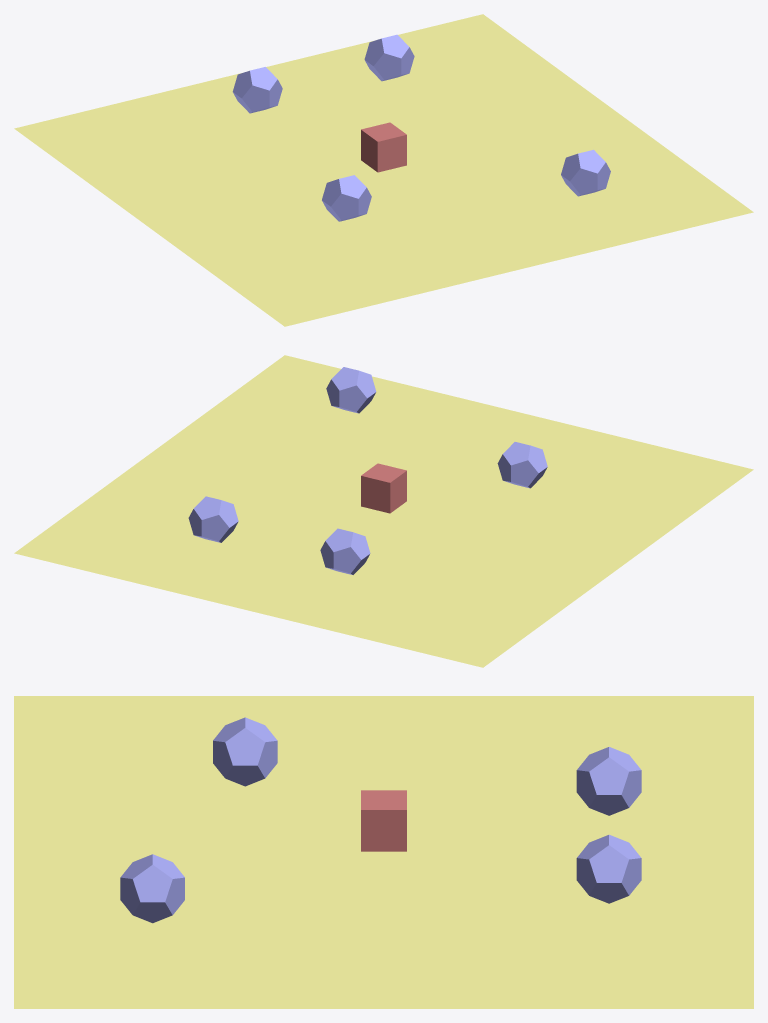
The picture shows the model from 3 angles, top to bottom: view 1: azimuth 30°, elevation 25°; view 2: azimuth 150°, elevation 25°; view 3: azimuth 270°, elevation 25°; orthographic projection. The views are drawn at different scales.
Parts seen in each view (by area): view 1: Ground, Box, PillDodecahedron_0, PillDodecahedron_2, PillDodecahedron_1, PillDodecahedron_3; view 2: Ground, Box, PillDodecahedron_1, PillDodecahedron_2, PillDodecahedron_0, PillDodecahedron_3; view 3: Ground, PillDodecahedron_3, PillDodecahedron_2, PillDodecahedron_1, PillDodecahedron_0, Box.
Boxes of the visible parts, x1=… form: Ground: x1=14, y1=14, x2=753, y2=326; Box: x1=361, y1=122, x2=406, y2=172; PillDodecahedron_0: x1=561, y1=149, x2=610, y2=196; PillDodecahedron_2: x1=364, y1=34, x2=414, y2=81; PillDodecahedron_1: x1=322, y1=175, x2=371, y2=221; PillDodecahedron_3: x1=232, y1=67, x2=282, y2=113; Ground: x1=14, y1=355, x2=753, y2=667; Box: x1=361, y1=463, x2=406, y2=513; PillDodecahedron_1: x1=497, y1=442, x2=547, y2=488; PillDodecahedron_2: x1=188, y1=496, x2=238, y2=542; PillDodecahedron_0: x1=326, y1=367, x2=376, y2=413; PillDodecahedron_3: x1=320, y1=528, x2=370, y2=574; Ground: x1=14, y1=696, x2=753, y2=1008; PillDodecahedron_3: x1=576, y1=747, x2=641, y2=815; PillDodecahedron_2: x1=576, y1=834, x2=641, y2=903; PillDodecahedron_1: x1=213, y1=717, x2=277, y2=786; PillDodecahedron_0: x1=120, y1=854, x2=184, y2=923; Box: x1=361, y1=790, x2=406, y2=851.
Size of the model in its own units: 16 by 1.7 by 16.
